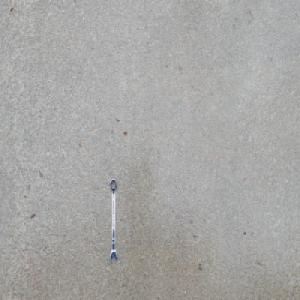Wrench: (109, 176, 118, 265)
